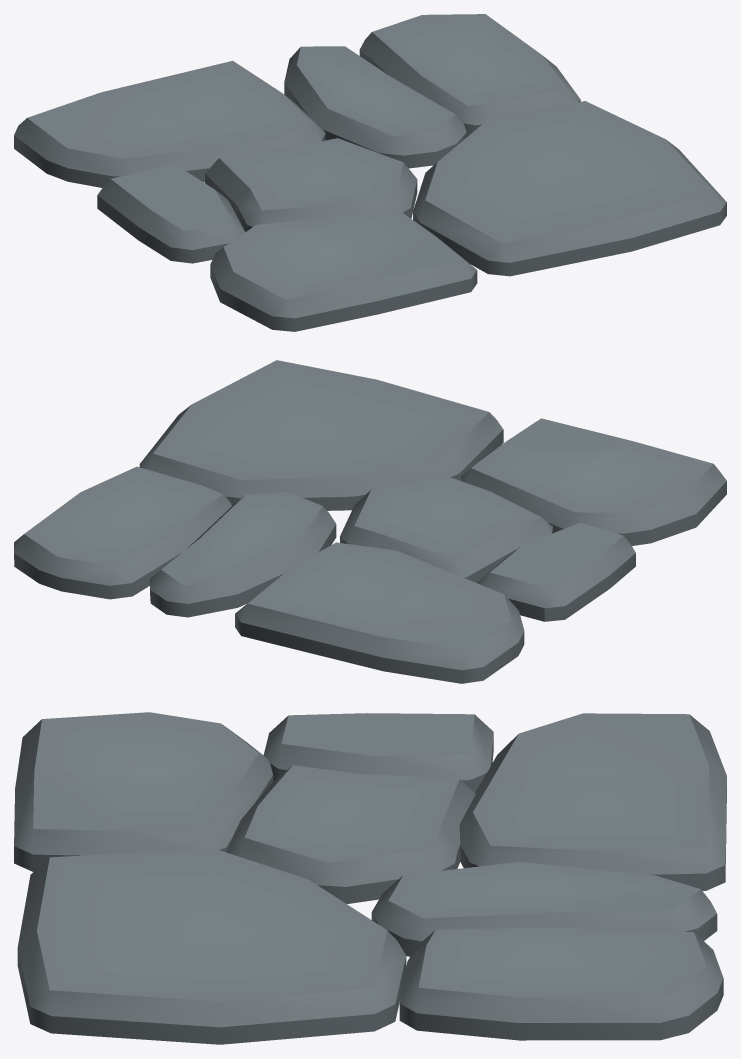
The model's file is path-tile.glb.
3 views of the same model, one above another, from view 1: azimuth 30°, elevation 25°; view 2: azimuth 150°, elevation 25°; view 3: azimuth 270°, elevation 25° (orthographic). The views are drawn at different scales.
Parts seen in each view (by area): view 1: path_B; view 2: path_B; view 3: path_B.
Part boxes in pixels (x1,y1,x2,y2): path_B: (14,14,726,331); path_B: (14,360,726,683); path_B: (14,712,726,1044).
Size of the model in its own units: 1.89 by 0.0999 by 1.86.
Materials: 1 (1 with a texture image).
